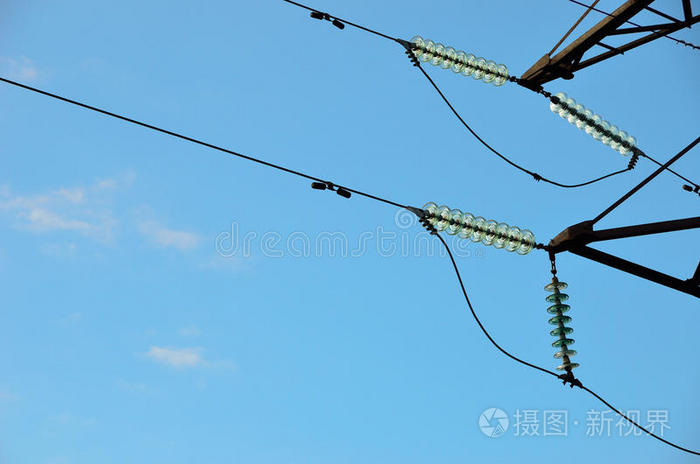insulator: (421, 199, 539, 257), (549, 90, 637, 154), (408, 33, 508, 86), (546, 279, 580, 372)
